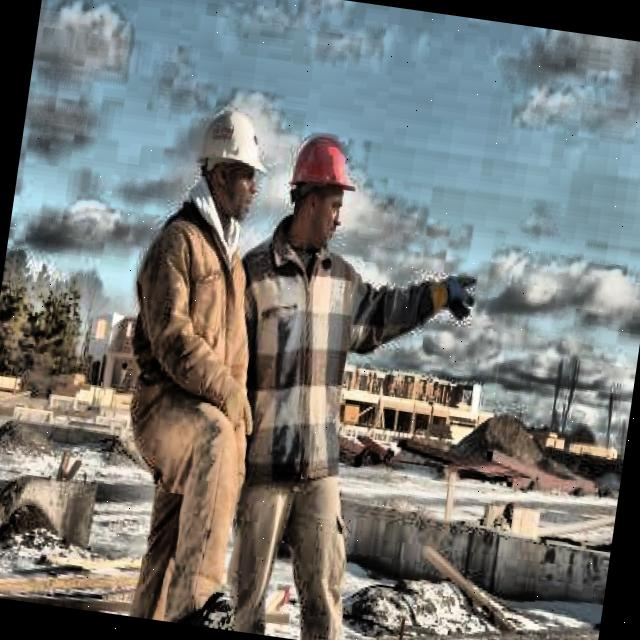helmet: (272, 120, 370, 262), (187, 96, 276, 232)
